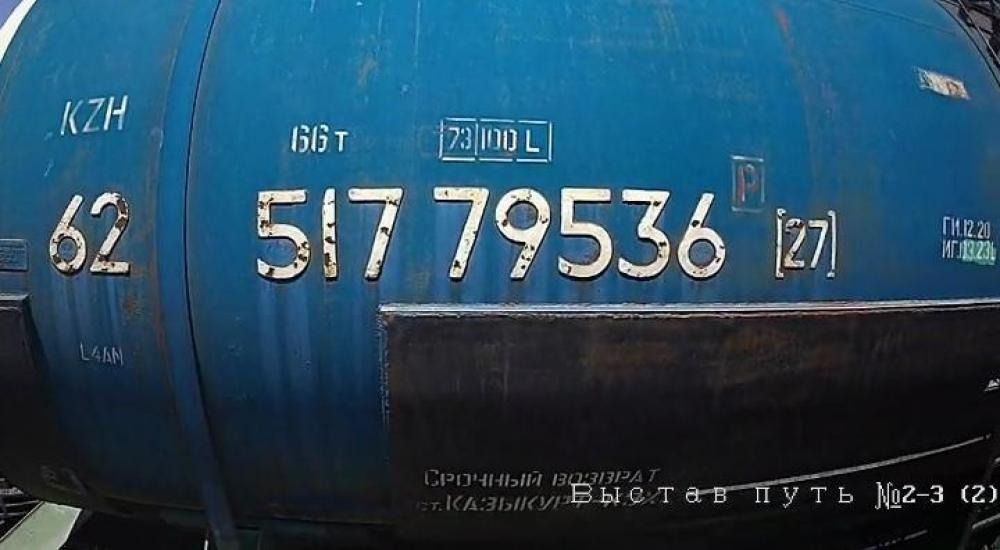Wagon-number: (252, 183, 731, 286)
